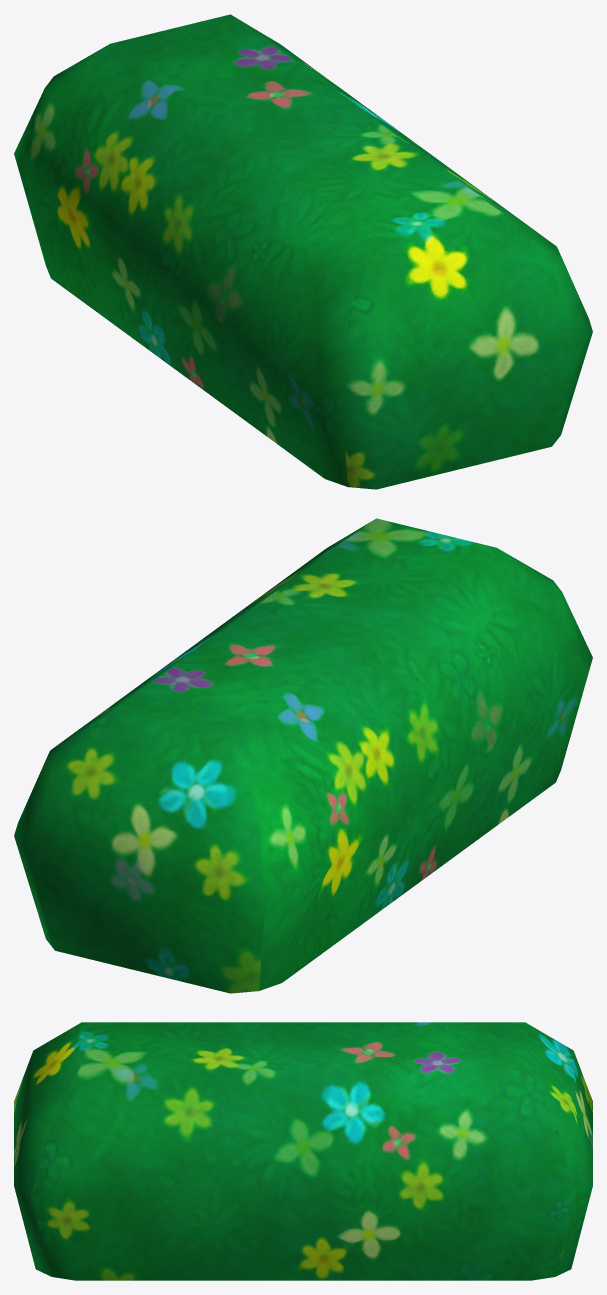
File: Plant02_a03.FBX
The picture shows the model from 3 angles, top to bottom: view 1: azimuth 30°, elevation 25°; view 2: azimuth 150°, elevation 25°; view 3: azimuth 270°, elevation 25°; orthographic projection. The views are drawn at different scales.
Parts seen in each view (by area): view 1: Plant02_a03; view 2: Plant02_a03; view 3: Plant02_a03.
Boxes of the visible parts, x1,y1,x2,y2 form: Plant02_a03: (14, 14, 592, 489); Plant02_a03: (14, 518, 592, 993); Plant02_a03: (14, 1022, 592, 1280).
Bounding box in the file's own units: 138 × 108 × 303.
1 material, 1 textured.
